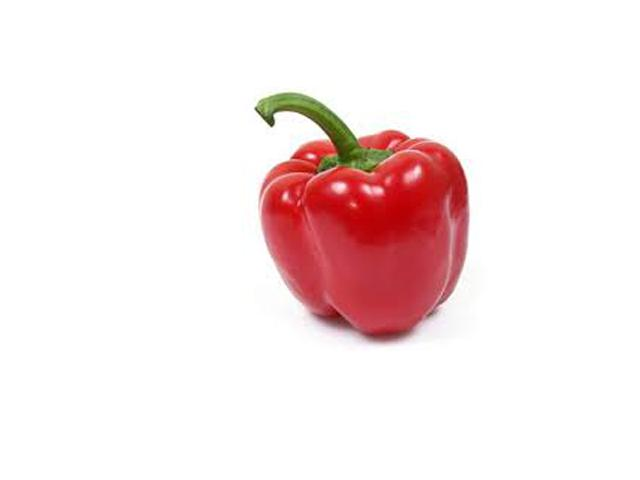bell_pepper: (242, 88, 485, 340)
